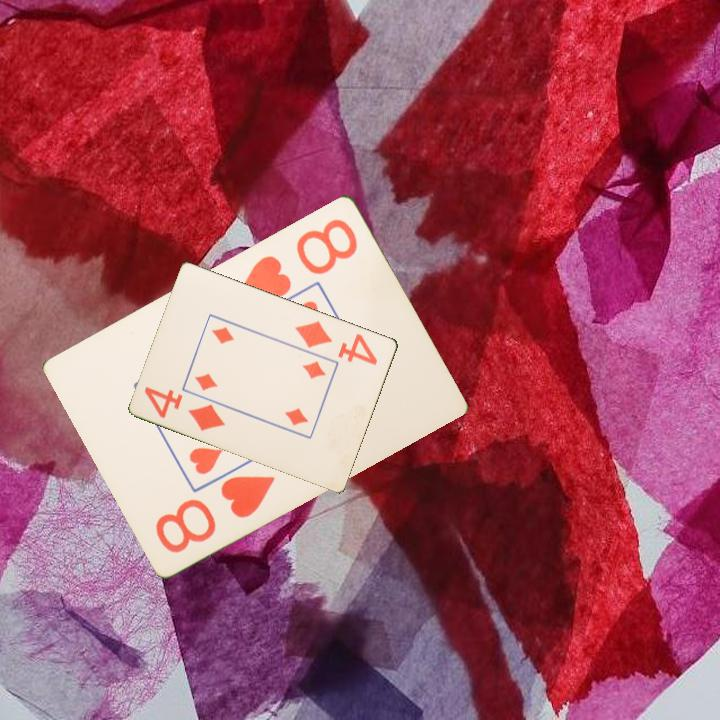4d: (292, 317, 381, 368), (141, 383, 229, 434)
8h: (232, 214, 361, 302), (152, 471, 279, 556)
